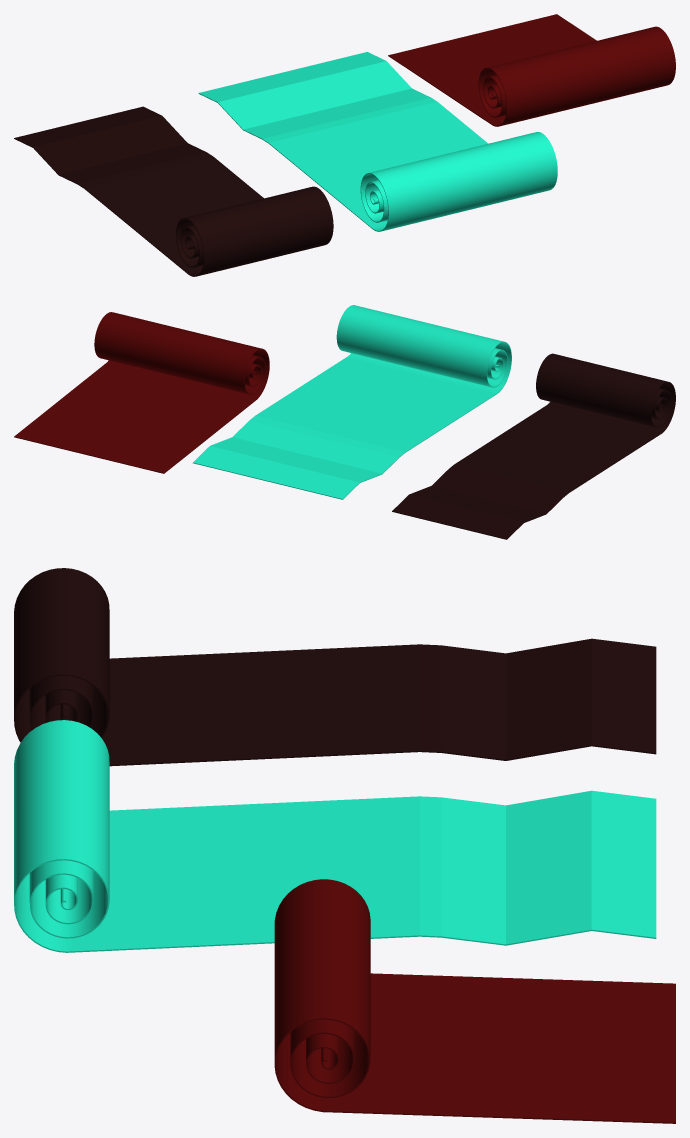
Rendered from tapis.FBX.
3 renders of one model, top to bottom at view 1: azimuth 30°, elevation 25°; view 2: azimuth 150°, elevation 25°; view 3: azimuth 270°, elevation 25°, orthographic. The views are drawn at different scales.
Parts seen in each view (by area): view 1: Helix011; view 2: Helix011; view 3: Helix011.
Boxes of the visible parts, x1,y1,x2,y2 form: Helix011: [14, 14, 675, 276]; Helix011: [14, 305, 675, 539]; Helix011: [14, 568, 675, 1123].
Size of the model in its own units: 252 by 27.52 by 156.
